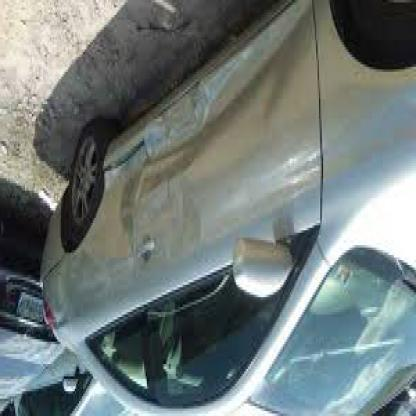dent: (160, 130, 206, 259), (110, 167, 141, 266), (250, 64, 284, 132)
